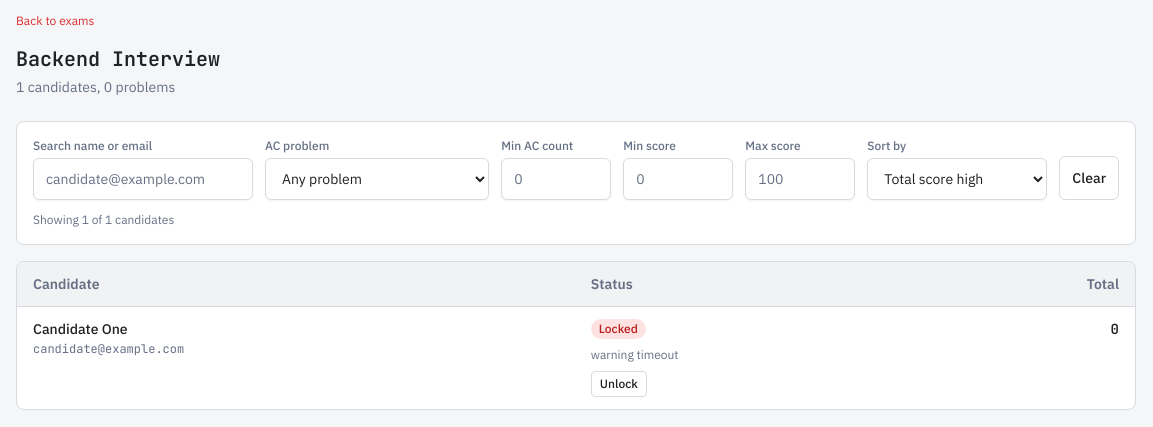
Scenario: ExamResultsPage › unlocks a locked candidate and reloads results
Step 1. Click the button "Unlock" → (619, 384), box [591,371,647,397]
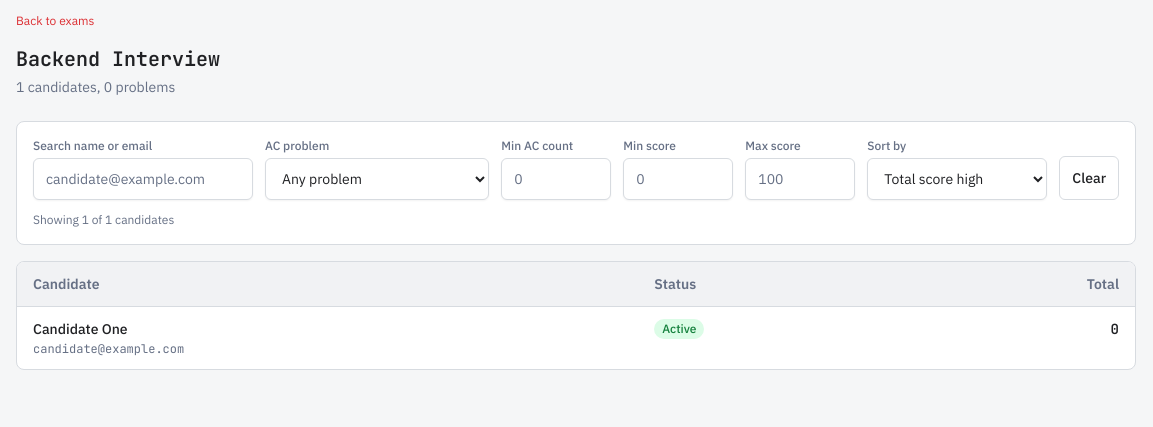
Result: the text "Locked" is gone
